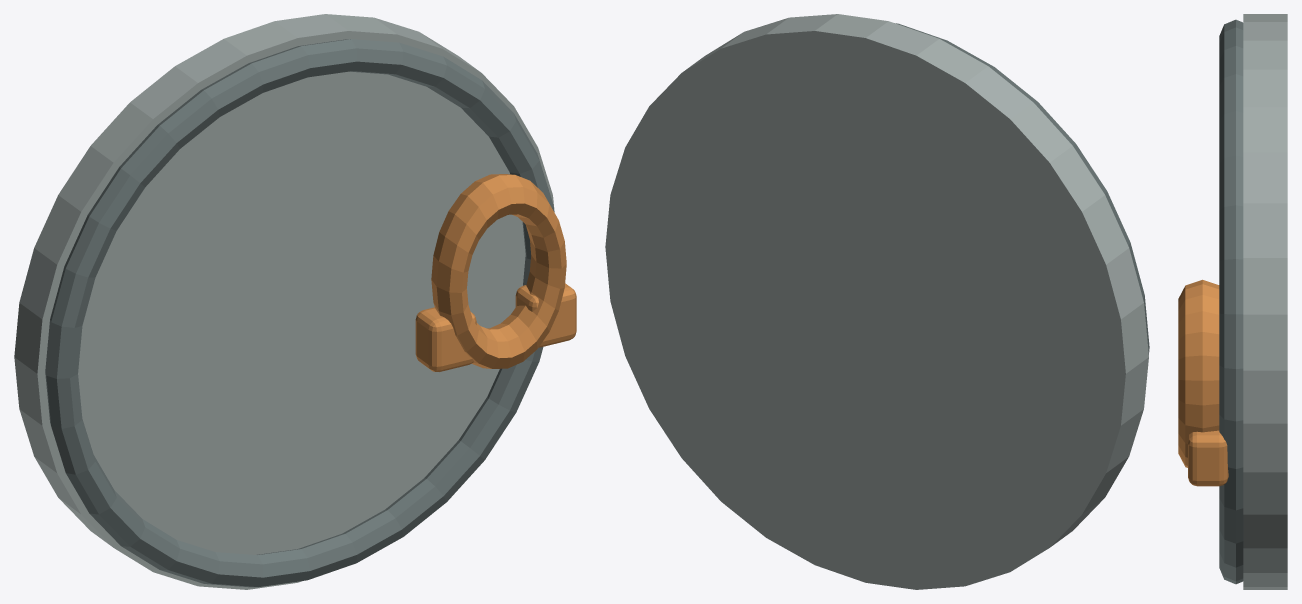
Rendered from lid-loop-v1-BuzWOok_.glb.
The picture shows the model from 3 angles, left to right: view 1: azimuth 30°, elevation 25°; view 2: azimuth 150°, elevation 25°; view 3: azimuth 270°, elevation 25°; orthographic projection. The views are drawn at different scales.
Parts seen in each view (by area): view 1: Lid disk, Lid edge, Side cloth loop, Loop anchor left, Loop anchor right; view 2: Lid disk, Lid edge; view 3: Lid disk, Lid edge, Side cloth loop, Loop anchor right.
Boxes of the visible parts, <box> form: Lid disk: <box>14,14,554,589</box>; Lid edge: <box>45,39,554,587</box>; Side cloth loop: <box>431,174,566,368</box>; Loop anchor left: <box>415,307,476,371</box>; Loop anchor right: <box>515,283,576,347</box>; Lid disk: <box>605,14,1148,589</box>; Lid edge: <box>896,23,1149,354</box>; Lid disk: <box>1243,14,1287,589</box>; Lid edge: <box>1219,19,1243,584</box>; Side cloth loop: <box>1178,279,1219,467</box>; Loop anchor right: <box>1188,430,1228,486</box>.
Size of the model in its own units: 1.56 by 1.56 by 0.296.
